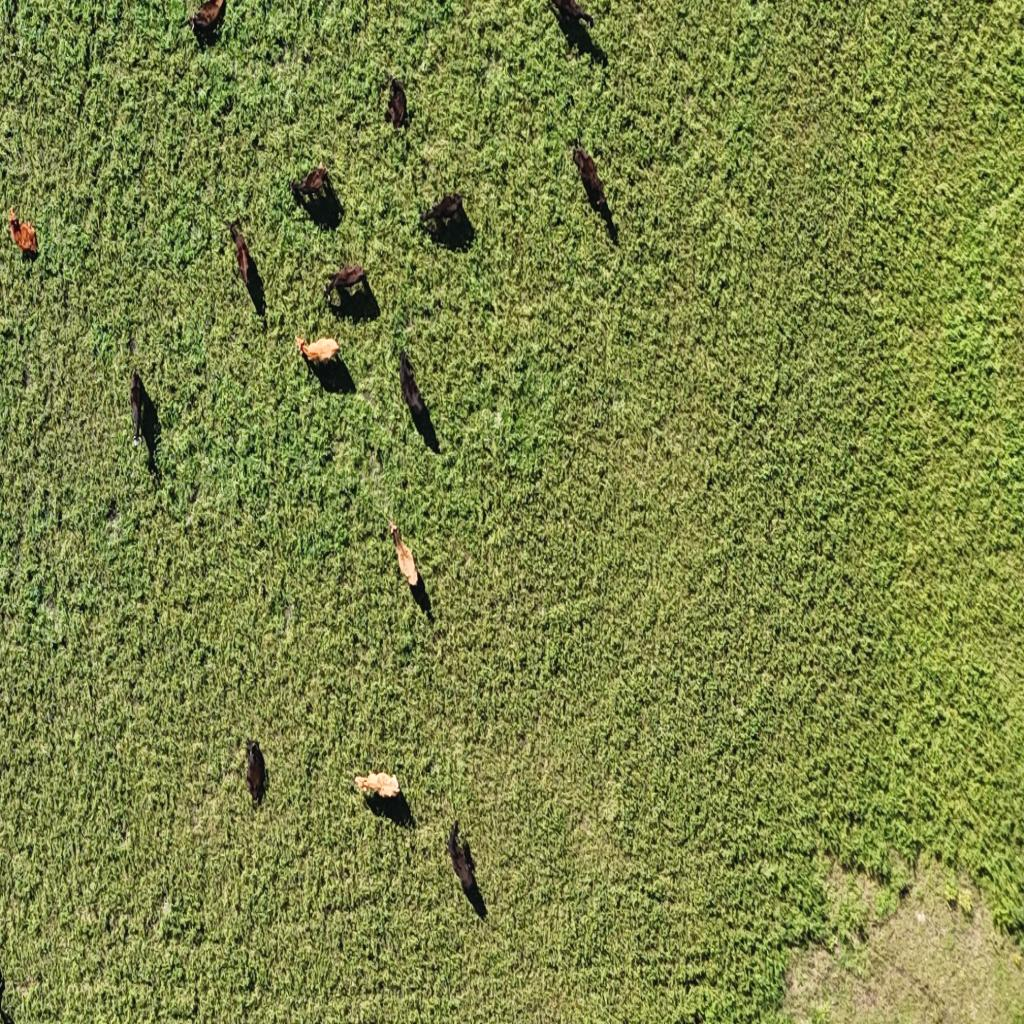cow: (388, 510, 432, 620), (572, 145, 616, 239), (548, 0, 602, 66), (226, 218, 262, 314), (398, 347, 432, 441), (297, 330, 347, 392), (288, 161, 336, 223), (130, 370, 158, 472), (446, 821, 480, 903), (420, 192, 470, 244), (356, 766, 406, 816), (322, 262, 368, 310), (186, 0, 226, 44), (8, 205, 40, 259), (244, 738, 266, 808), (385, 76, 407, 130)
